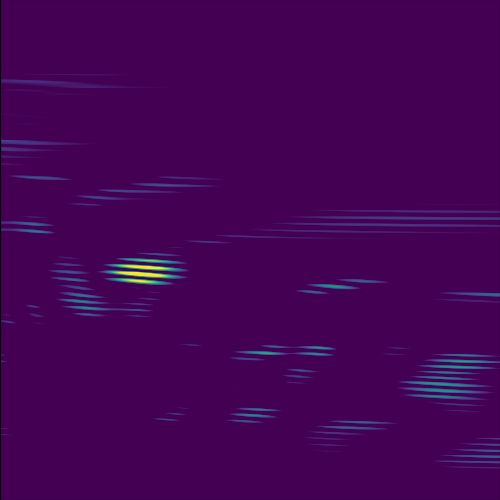semblance: (102, 254, 190, 288)
